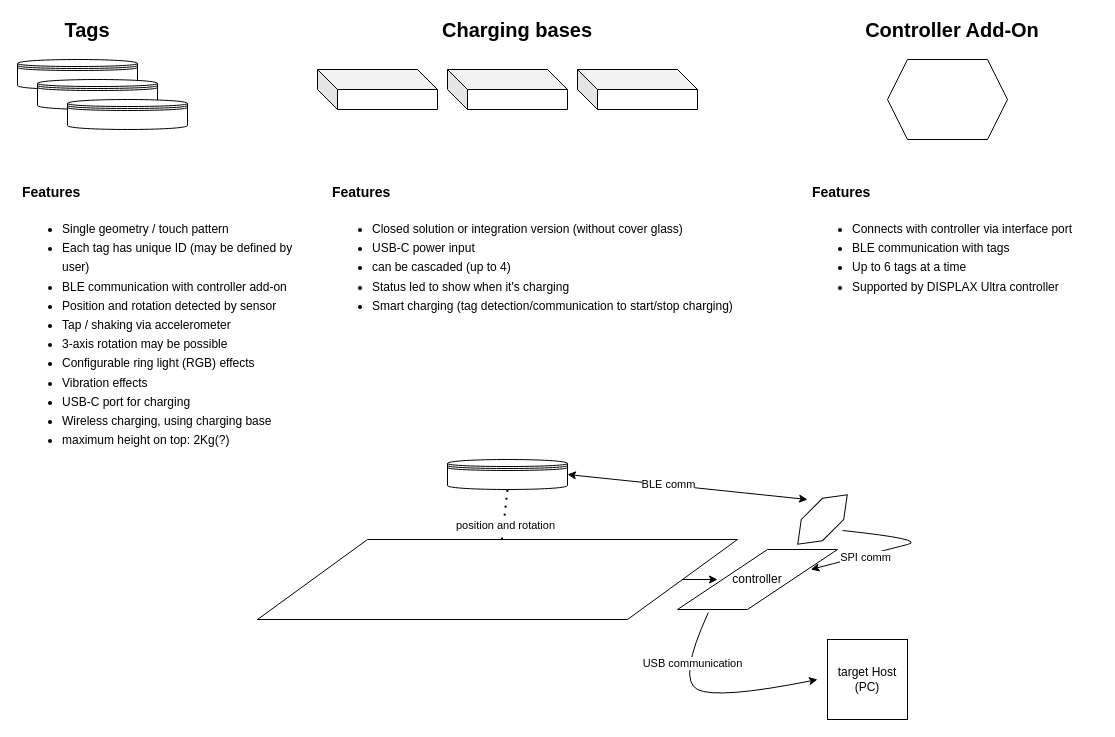
This 1115x737 diagram has some shape labels left out. The centre of each missing label's shape, as x and y in pixels:
"add-on" goes at (822,519).
"Sensor" goes at (497,579).
